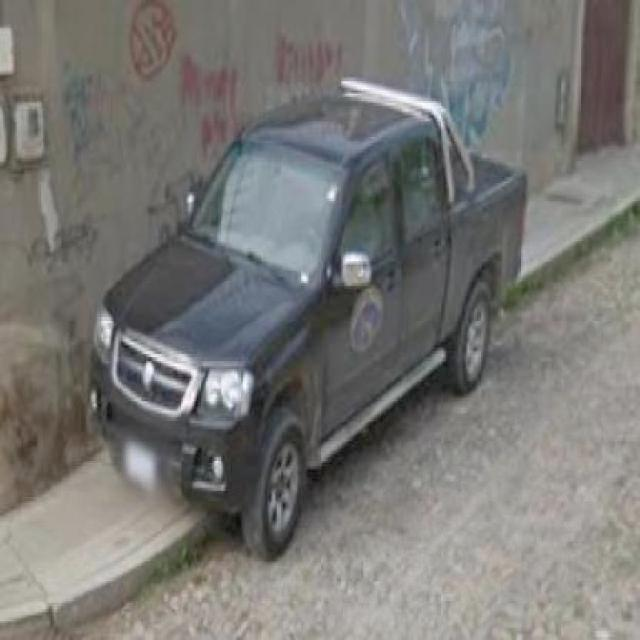car: (96, 92, 527, 550)
